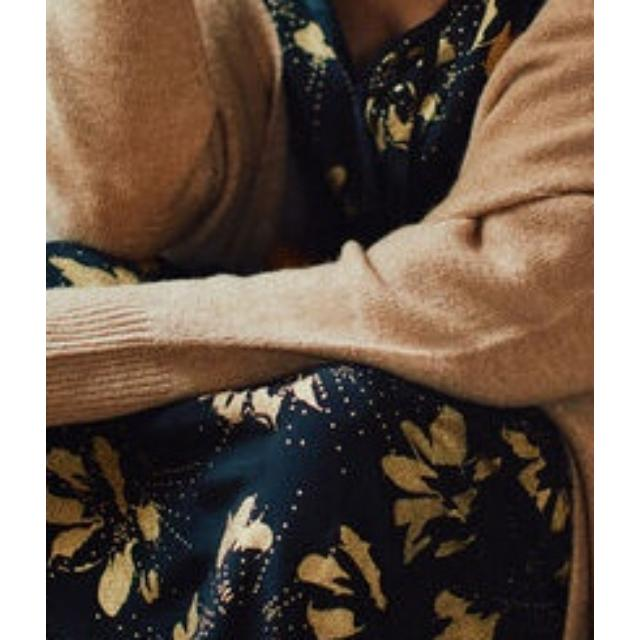polyester: (86, 412, 534, 640)
